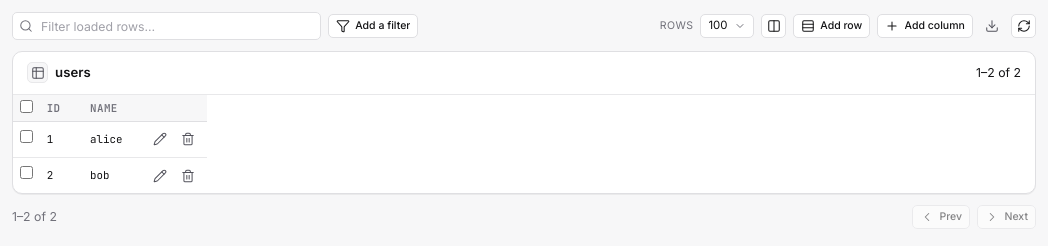
Test: DataTab › the quick filter › narrows the loaded page without asking the server again
Type "bob" into the search field named "Filter the rows on this page".
click(166, 26); type("bob")  # box [12,12,321,40]
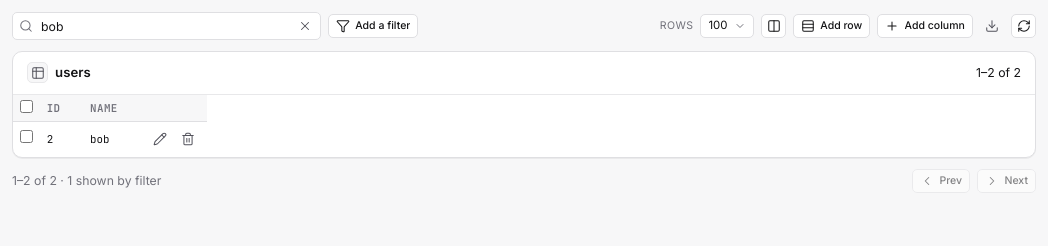
Expected: the button "bob" is shown, [90,131,133,148]
Now the button "alice" is gone
